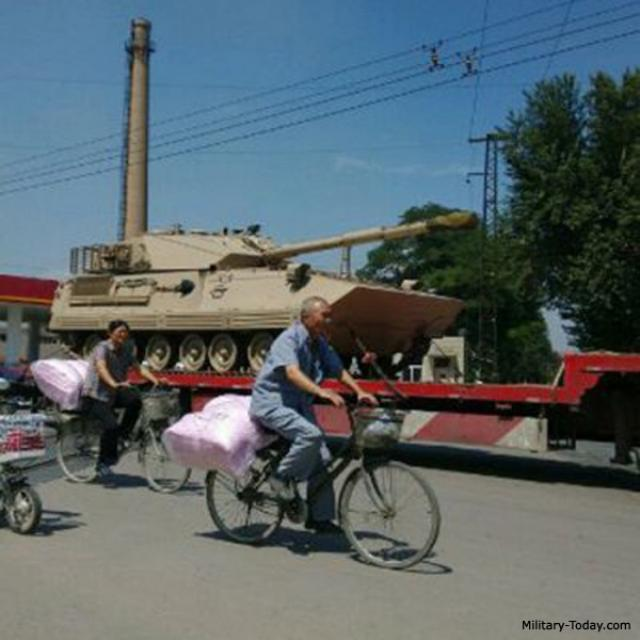other: (246, 288, 360, 440), (75, 314, 152, 412)
tank: (58, 222, 464, 360)
